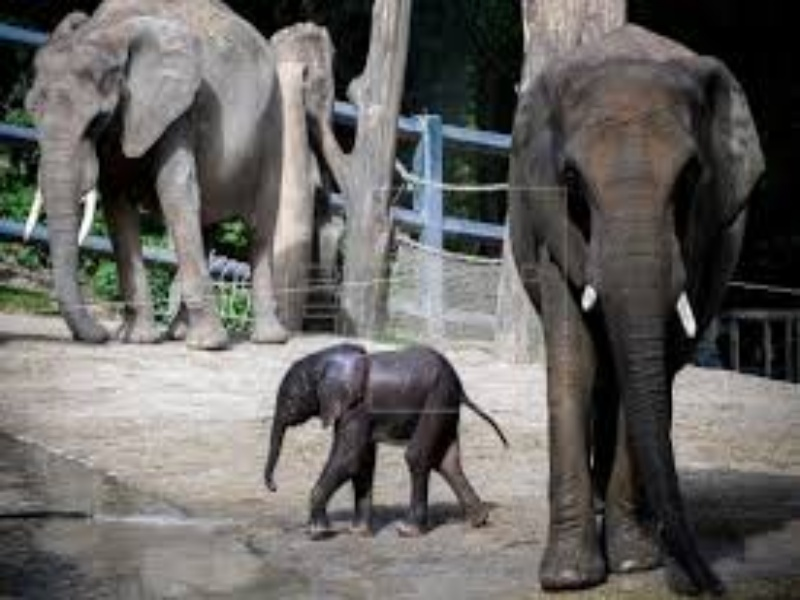elephant: (493, 22, 780, 600), (1, 1, 342, 353), (251, 344, 516, 541)
